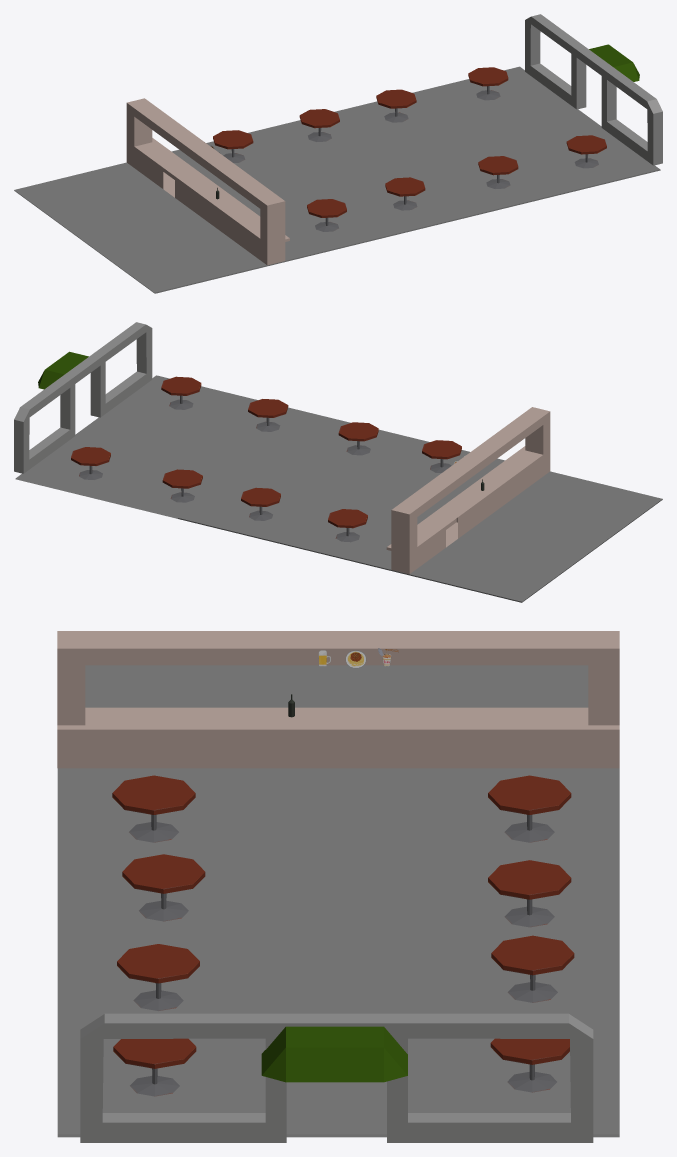
The model's file is italian.fbx.
The picture shows the model from 3 angles, top to bottom: view 1: azimuth 30°, elevation 25°; view 2: azimuth 150°, elevation 25°; view 3: azimuth 270°, elevation 25°; orthographic projection. The views are drawn at different scales.
Parts seen in each view (by area): view 1: floor, table, entrace, stall.004, stall.007, stall.008, stall.006, stall.003, stall.005, stall.001, stall.002, 平面; view 2: floor, table, entrace, stall.008, stall.005, stall.004, stall.002, stall.003, stall.006, stall.007, stall.001, 平面; view 3: floor, table, entrace, 平面, stall.002, stall.004, stall.003, stall.008, stall.005, stall.001, stall.006, stall.007.
Part boxes in pixels (box(x1,y1,x2,y2)): floor: box(14, 66, 660, 293); table: box(126, 98, 289, 265); entrace: box(525, 14, 662, 165); stall.004: box(385, 177, 425, 210); stall.007: box(468, 67, 508, 100); stall.008: box(376, 89, 416, 122); stall.006: box(566, 135, 606, 168); stall.003: box(299, 109, 339, 141); stall.005: box(478, 156, 518, 188); stall.001: box(307, 199, 346, 231); stall.002: box(213, 130, 253, 162); 平面: box(589, 44, 639, 81); floor: box(15, 375, 662, 602); table: box(386, 407, 550, 574); entrace: box(14, 322, 152, 473); stall.008: box(162, 469, 202, 502); stall.005: box(248, 399, 288, 431); stall.004: box(338, 422, 378, 455); stall.002: box(328, 509, 367, 542); stall.003: box(241, 487, 280, 520); stall.006: box(161, 376, 201, 409); stall.007: box(71, 447, 110, 479); stall.001: box(422, 440, 461, 472); 平面: box(38, 351, 88, 389); floor: box(57, 665, 619, 1137); table: box(57, 631, 619, 768); entrace: box(80, 1013, 593, 1142); 平面: box(261, 1026, 407, 1082); stall.002: box(488, 775, 571, 842); stall.004: box(122, 854, 205, 921); stall.003: box(488, 860, 571, 927); stall.008: box(491, 935, 574, 1002); stall.005: box(117, 944, 199, 1010); stall.001: box(112, 775, 195, 842); stall.006: box(113, 1038, 196, 1096); stall.007: box(490, 1038, 569, 1092).
Size of the model in its own units: 112 by 12.14 by 50.16.
11 materials, 6 textured.
